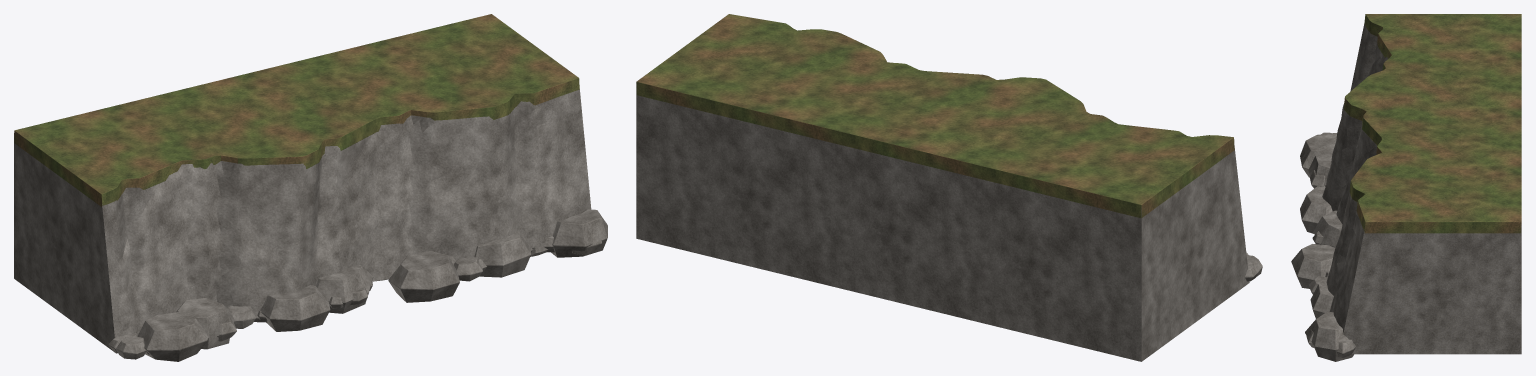
Rendered from cliff_rocks-LOD2.glb.
3 renders of one model, left to right at view 1: azimuth 30°, elevation 25°; view 2: azimuth 150°, elevation 25°; view 3: azimuth 270°, elevation 25°, orthographic. The views are drawn at different scales.
Visible parts, largest first — view 1: Continuous angular escarpment bedrock, Continuous soil and grass cliff crest; view 2: Continuous angular escarpment bedrock, Continuous soil and grass cliff crest; view 3: Continuous soil and grass cliff crest, Continuous angular escarpment bedrock.
Part boxes in pixels (x1,y1,x2,y2): Continuous angular escarpment bedrock: (14,89,607,361); Continuous soil and grass cliff crest: (14,14,579,206); Continuous angular escarpment bedrock: (636,84,1262,361); Continuous soil and grass cliff crest: (636,14,1234,218); Continuous soil and grass cliff crest: (1344,14,1521,233); Continuous angular escarpment bedrock: (1291,24,1521,361).
Size of the model in its own units: 12.52 by 3.72 by 5.62.
Materials: 2 (2 with a texture image).
